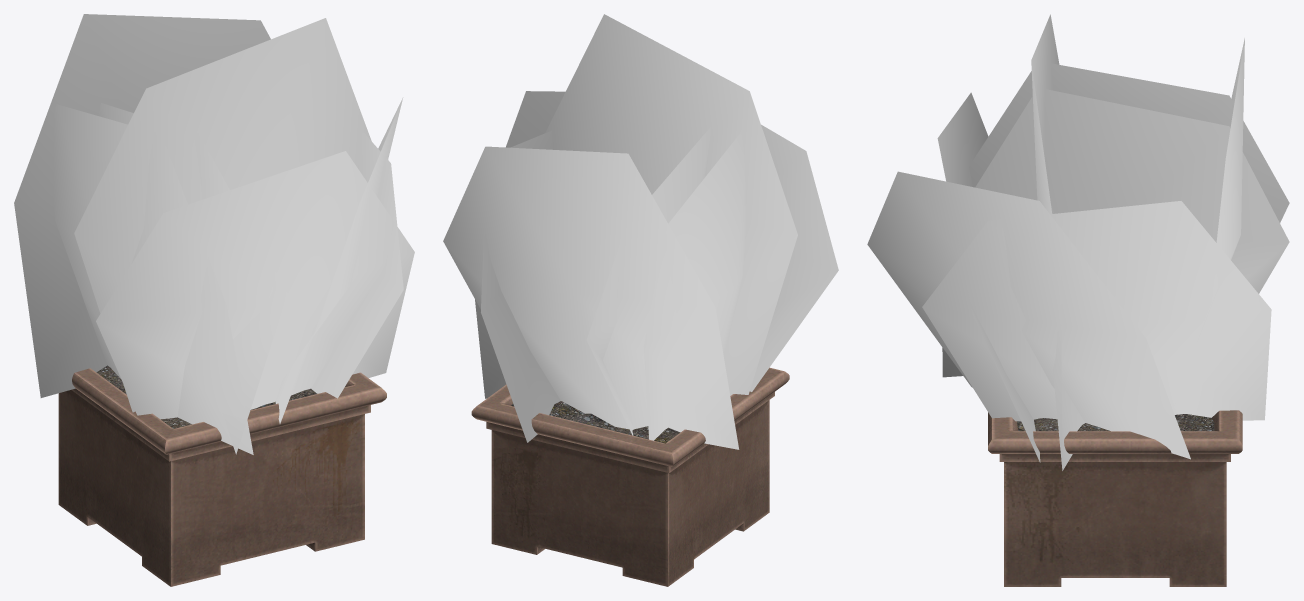
Rendered from Flower_Pot_01.fbx.
The picture shows the model from 3 angles, left to right: view 1: azimuth 30°, elevation 25°; view 2: azimuth 150°, elevation 25°; view 3: azimuth 270°, elevation 25°; orthographic projection. The views are drawn at different scales.
Visible parts, largest first — view 1: Flower_Pot_01_LOD0; view 2: Flower_Pot_01_LOD0; view 3: Flower_Pot_01_LOD0.
Boxes of the visible parts, x1=… form: Flower_Pot_01_LOD0: x1=14, y1=14, x2=414, y2=586; Flower_Pot_01_LOD0: x1=443, y1=14, x2=838, y2=586; Flower_Pot_01_LOD0: x1=867, y1=14, x2=1289, y2=586.
Size of what is drawn, in the model's own units: 75.55 by 112 by 83.16.
